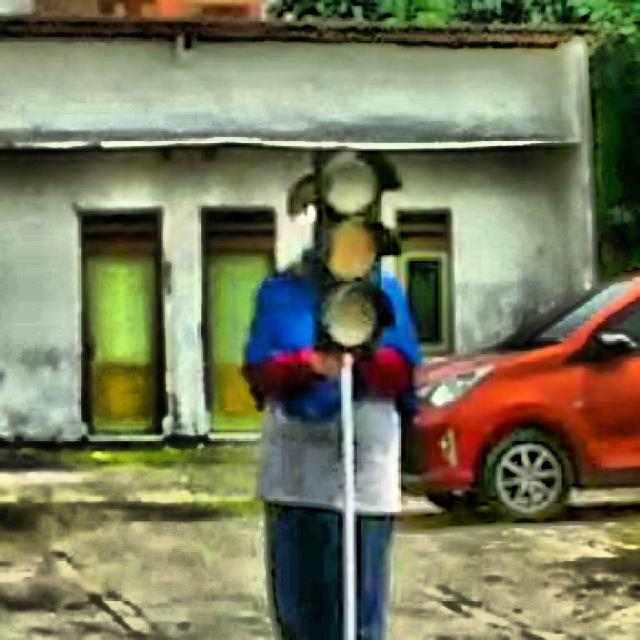yellow: (311, 146, 395, 354)
